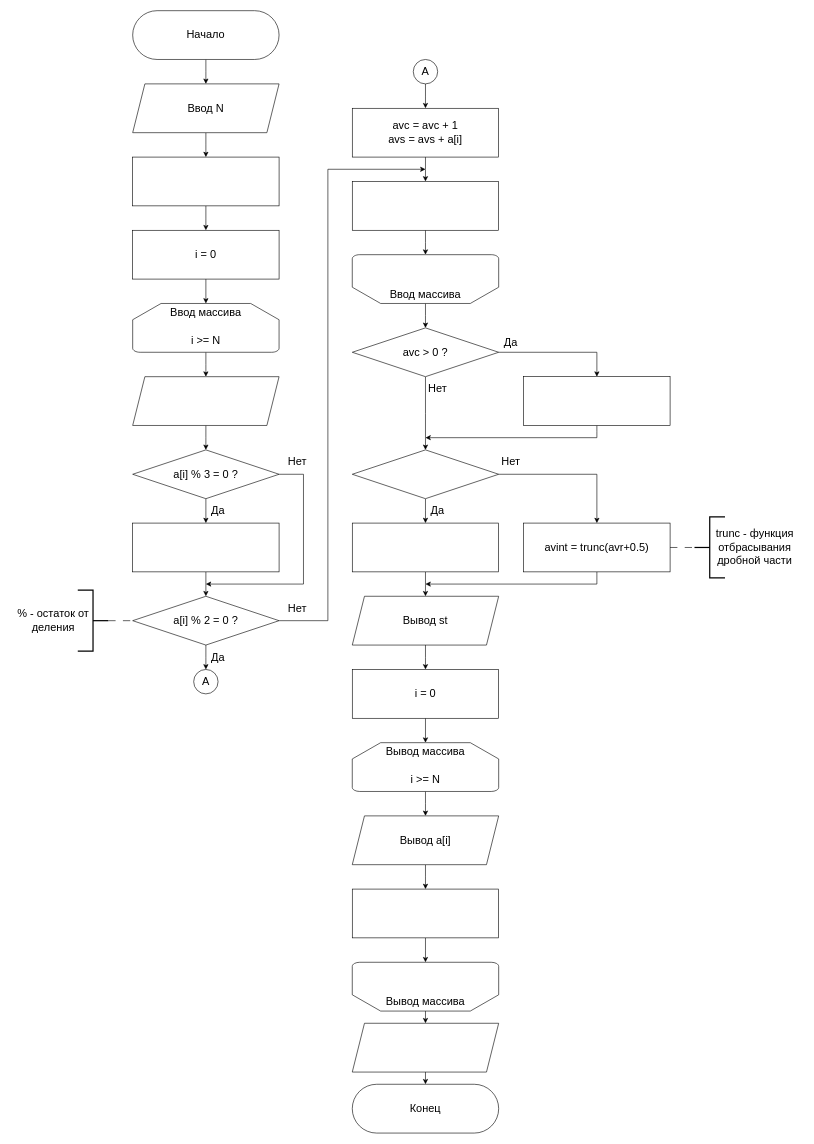
Some shapes in this 814 by 1144 pixel diagram are drawn without their labels. Each missing label, with the centre of its shape:
avint = trunc(avr-0.5): point (425, 547)
avr < 0 ?: point (425, 474)
avr = avs / avc: point (596, 400)
i = i + 1: point (425, 205)
i = i +1: point (425, 913)
st = 0, avc = 0 avs = 0, avr = 0: point (205, 181)
st = st + 1: point (205, 547)
Ввод a[i]: point (205, 400)
Вывод avint: point (425, 1047)
